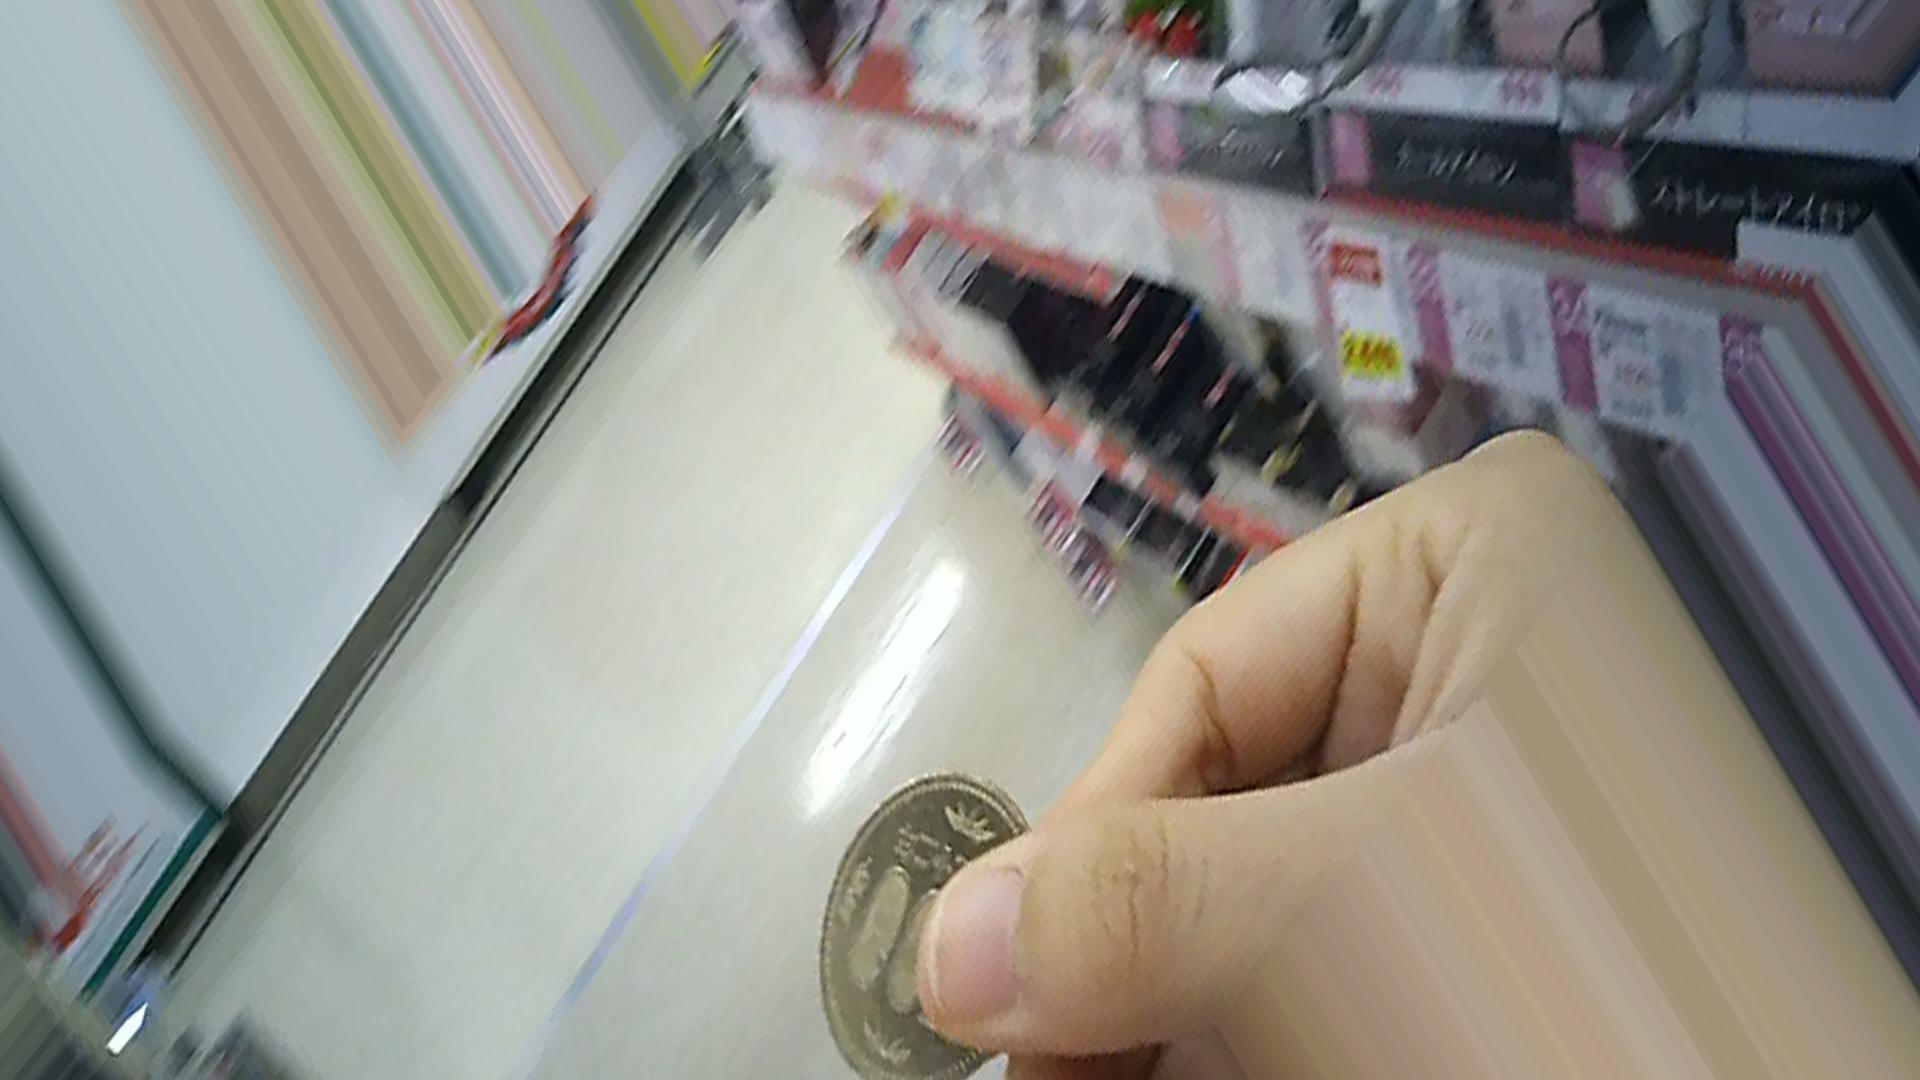500 Yen: (815, 771, 1059, 1077)
